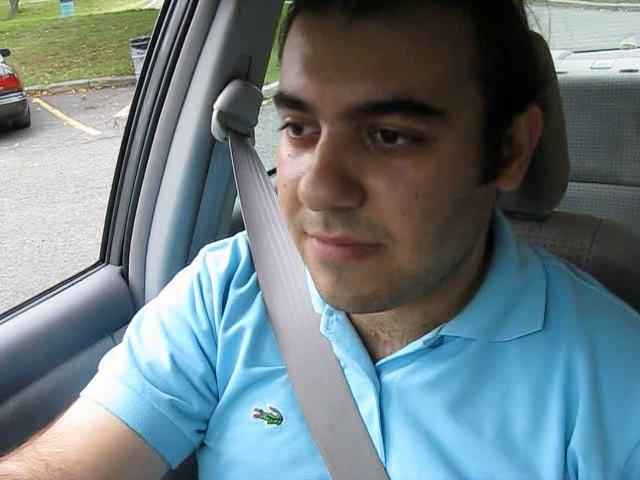no_yawn: (279, 212, 401, 278)
open_eyeL: (266, 103, 327, 153)
open_eyeR: (349, 102, 453, 166)
